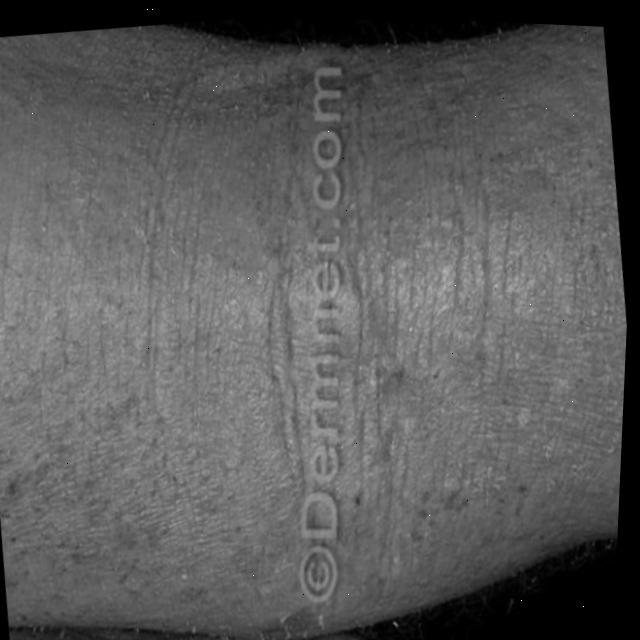Eczema: (30, 36, 616, 568)
